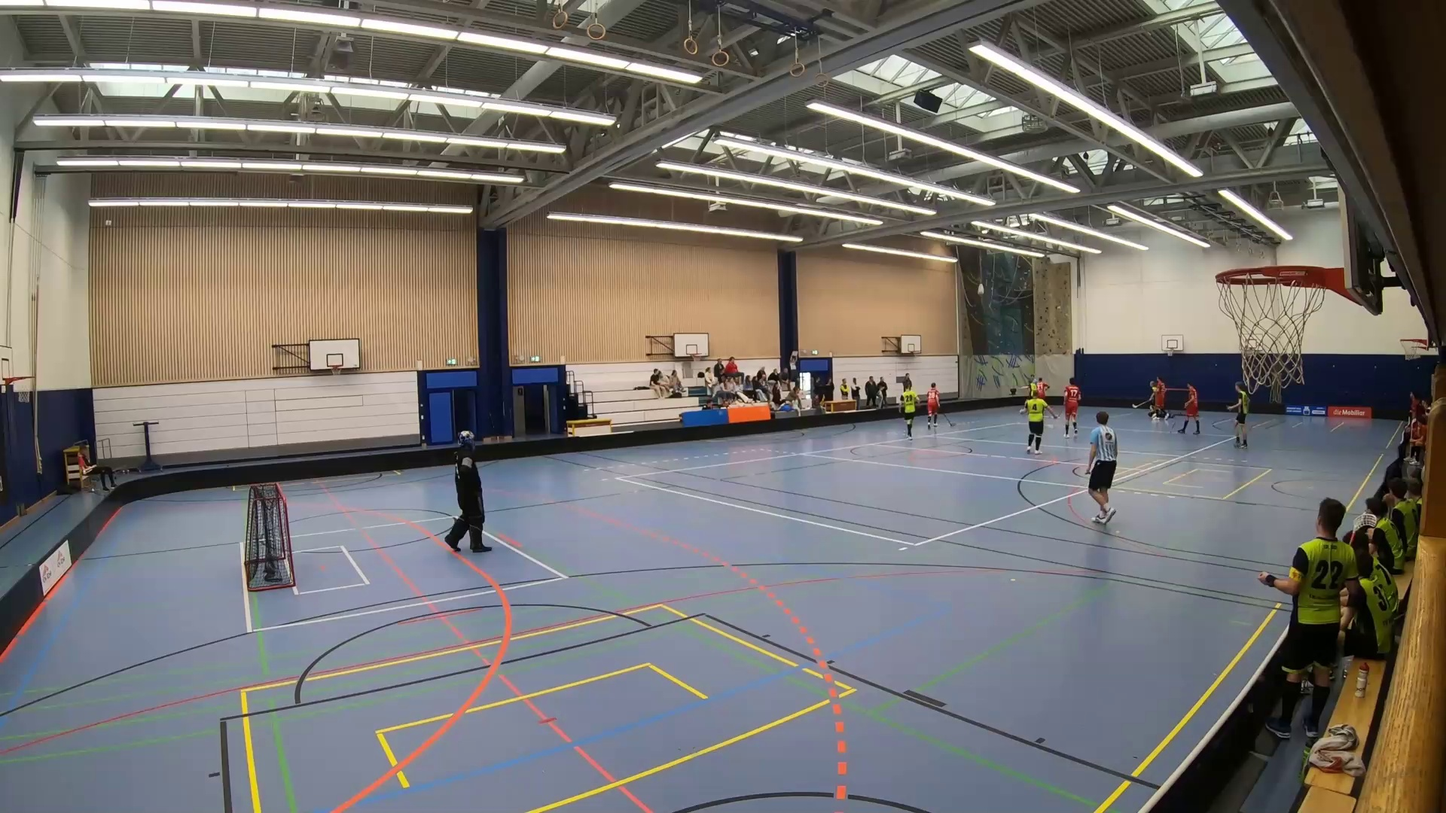Schiri: (1068, 404, 1127, 535), (1031, 372, 1037, 384)
goalkeeper: (433, 392, 499, 563), (1144, 404, 1176, 418)
player: (1014, 388, 1060, 455), (1219, 376, 1255, 453), (1167, 377, 1202, 439), (891, 374, 923, 440), (924, 376, 958, 434), (1057, 371, 1081, 437), (1151, 375, 1173, 423), (1130, 376, 1155, 415), (1016, 377, 1037, 406), (1037, 377, 1052, 401)
